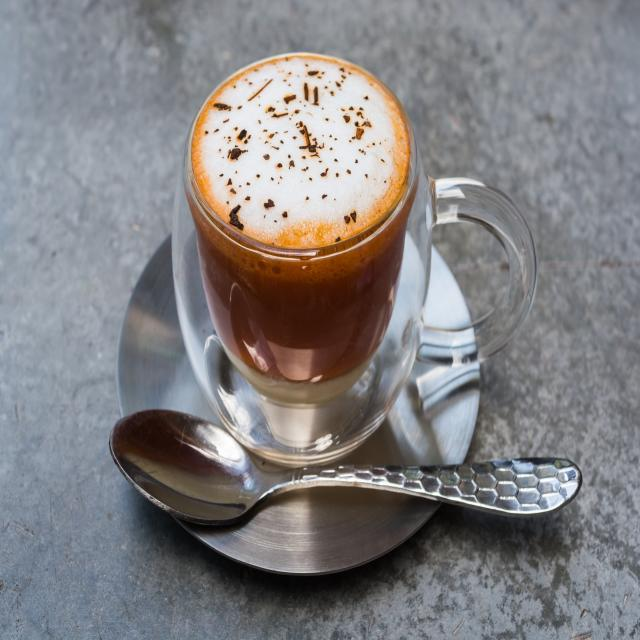cup: (183, 54, 489, 483)
